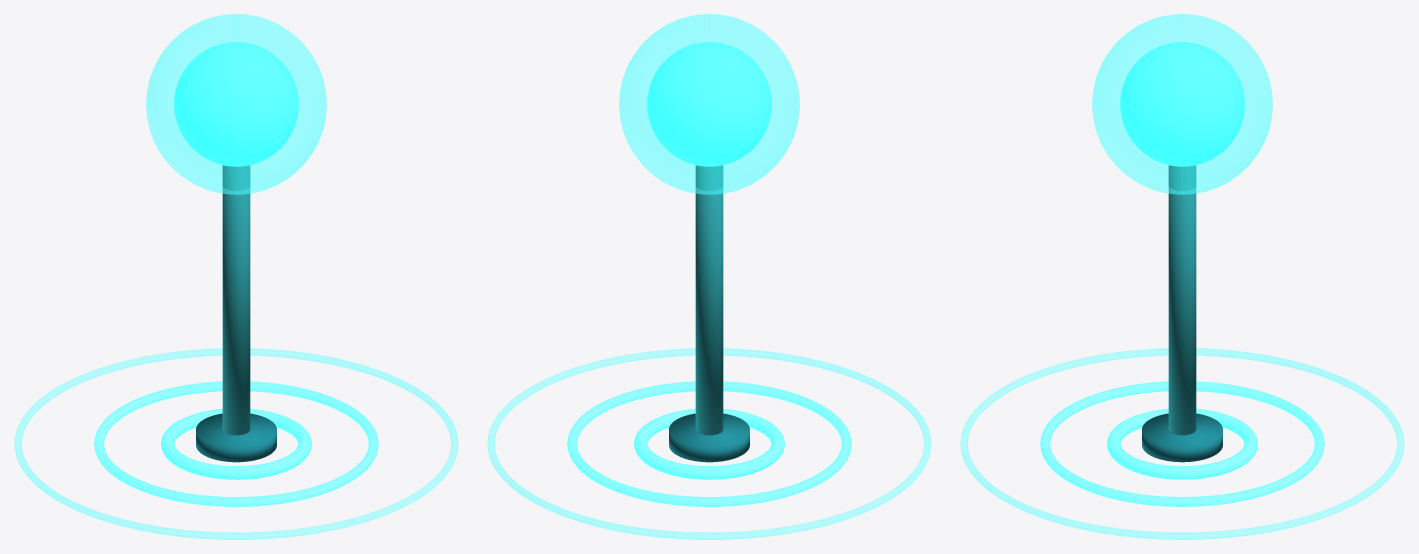
Rendered from map-pin-teal.glb.
3 views of the same model, side by side, from view 1: azimuth 30°, elevation 25°; view 2: azimuth 150°, elevation 25°; view 3: azimuth 270°, elevation 25° (orthographic).
Parts seen in each view (by area): view 1: Glow, Cap, Pulse2, Column, Pulse1, Pulse0, Base; view 2: Glow, Cap, Pulse2, Column, Pulse1, Pulse0, Base; view 3: Glow, Cap, Pulse2, Column, Pulse1, Pulse0, Base.
Boxes of the visible parts, x1,y1,x2,y2 form: Glow: (146, 14, 326, 194); Cap: (174, 42, 298, 166); Pulse2: (14, 348, 458, 539); Column: (222, 165, 250, 435); Pulse1: (94, 381, 378, 506); Pulse0: (161, 408, 311, 479); Base: (196, 413, 276, 462); Glow: (619, 14, 799, 194); Cap: (647, 42, 771, 166); Pulse2: (487, 348, 931, 539); Column: (695, 165, 723, 435); Pulse1: (567, 381, 851, 506); Pulse0: (634, 408, 784, 479); Base: (669, 413, 749, 462); Glow: (1092, 14, 1272, 194); Cap: (1120, 42, 1244, 166); Pulse2: (960, 348, 1404, 539); Column: (1168, 165, 1196, 435); Pulse1: (1040, 381, 1324, 506); Pulse0: (1107, 408, 1257, 479); Base: (1142, 413, 1222, 462).
Bounding box in the file's own units: 1.42 × 1.51 × 1.42.
